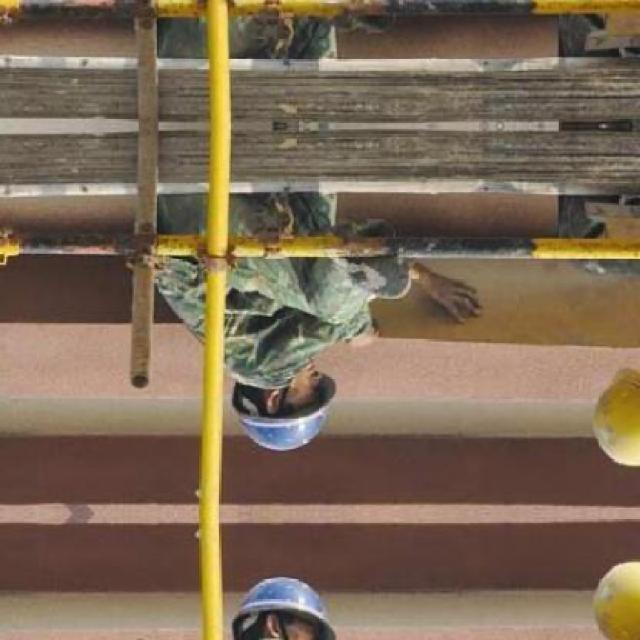con casco: (230, 371, 345, 474)
